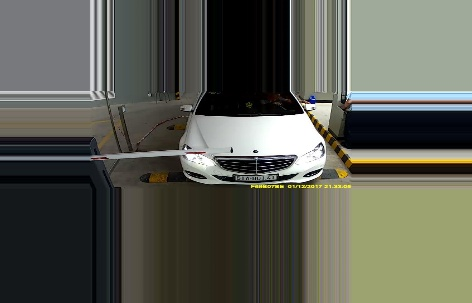plate: (231, 169, 277, 182)
